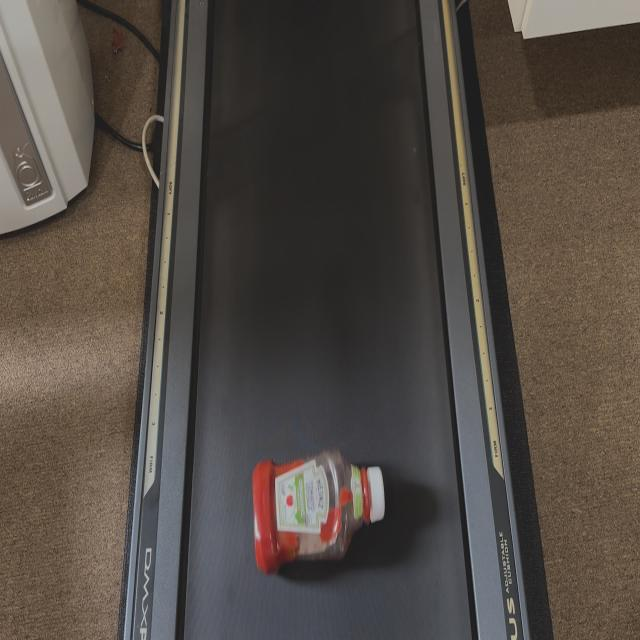Trash: (252, 452, 388, 576)
